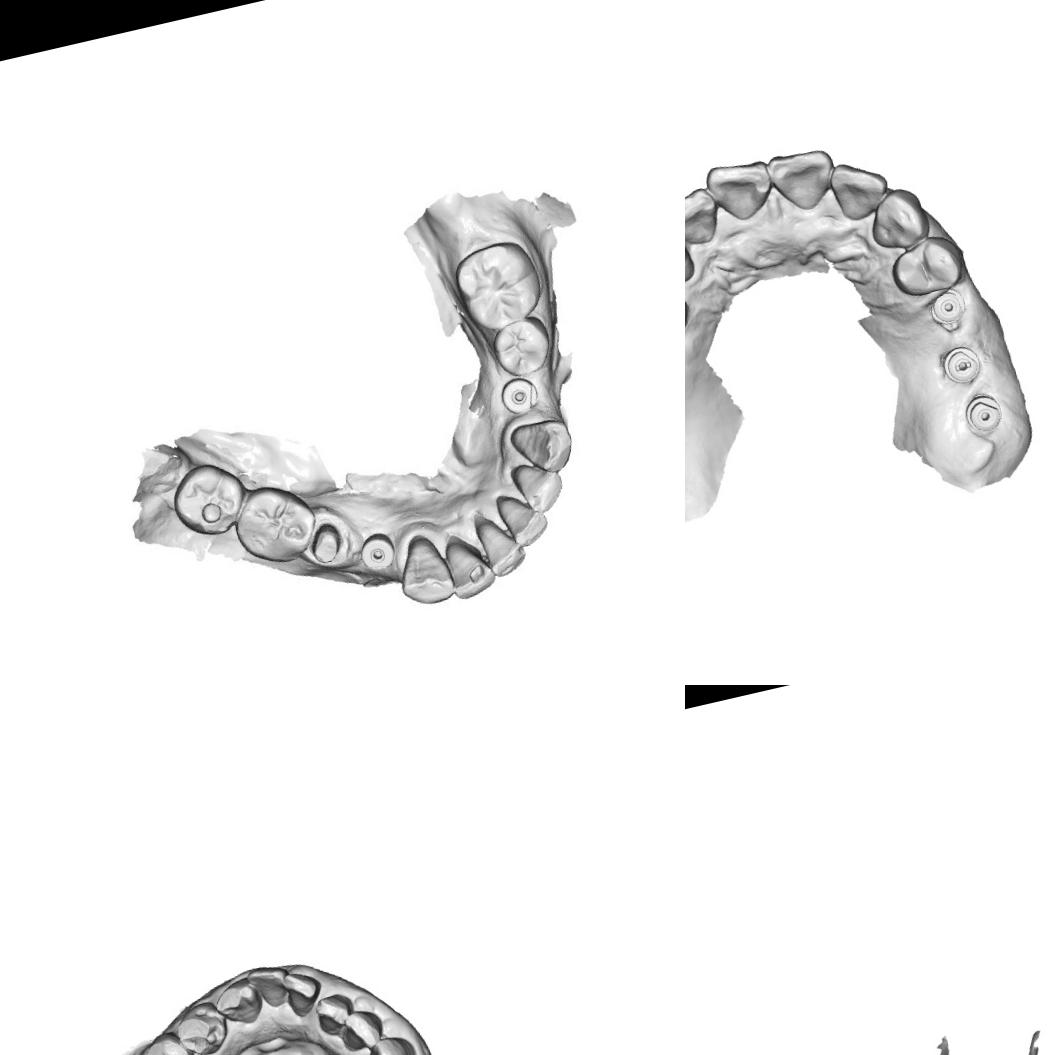canine: (860, 180, 938, 258), (390, 531, 458, 617), (502, 412, 580, 484), (210, 974, 266, 1030), (359, 1030, 421, 1055)
crown: (306, 519, 346, 568)
implant: (959, 388, 1008, 438), (925, 282, 970, 330), (358, 531, 397, 576), (496, 373, 538, 414)
implant_minus: (936, 338, 989, 390)
incisor: (764, 141, 842, 218), (702, 154, 780, 229), (826, 152, 897, 226), (439, 536, 500, 606), (475, 510, 531, 578), (496, 488, 552, 552), (514, 459, 570, 522), (243, 960, 295, 1014), (685, 183, 724, 253), (280, 966, 328, 1021), (336, 1004, 387, 1054), (312, 990, 358, 1040)
molar: (447, 238, 550, 333), (232, 486, 318, 564), (172, 465, 246, 536)
premolar: (883, 231, 969, 304), (490, 315, 556, 381), (170, 997, 233, 1055), (133, 1027, 200, 1055)
